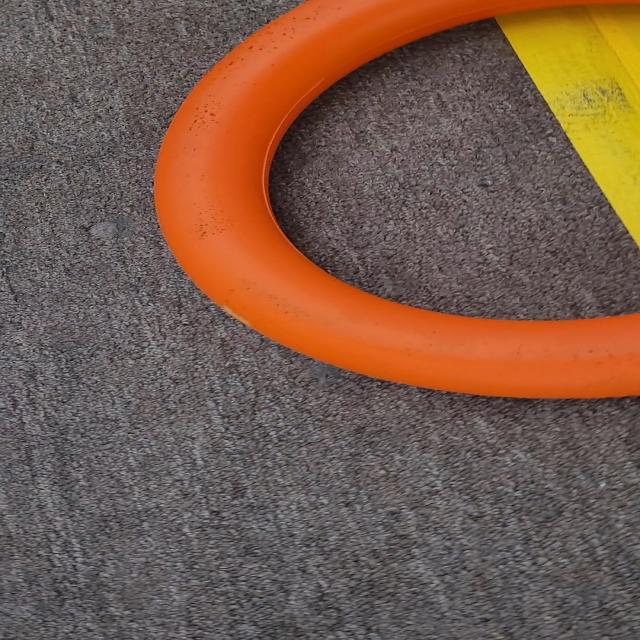note: (142, 0, 640, 432)
